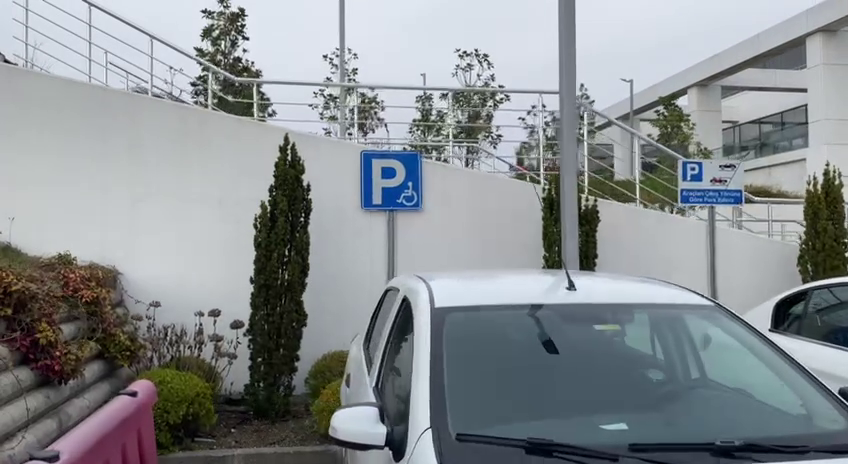parking: (359, 149, 424, 212), (680, 160, 705, 184)
